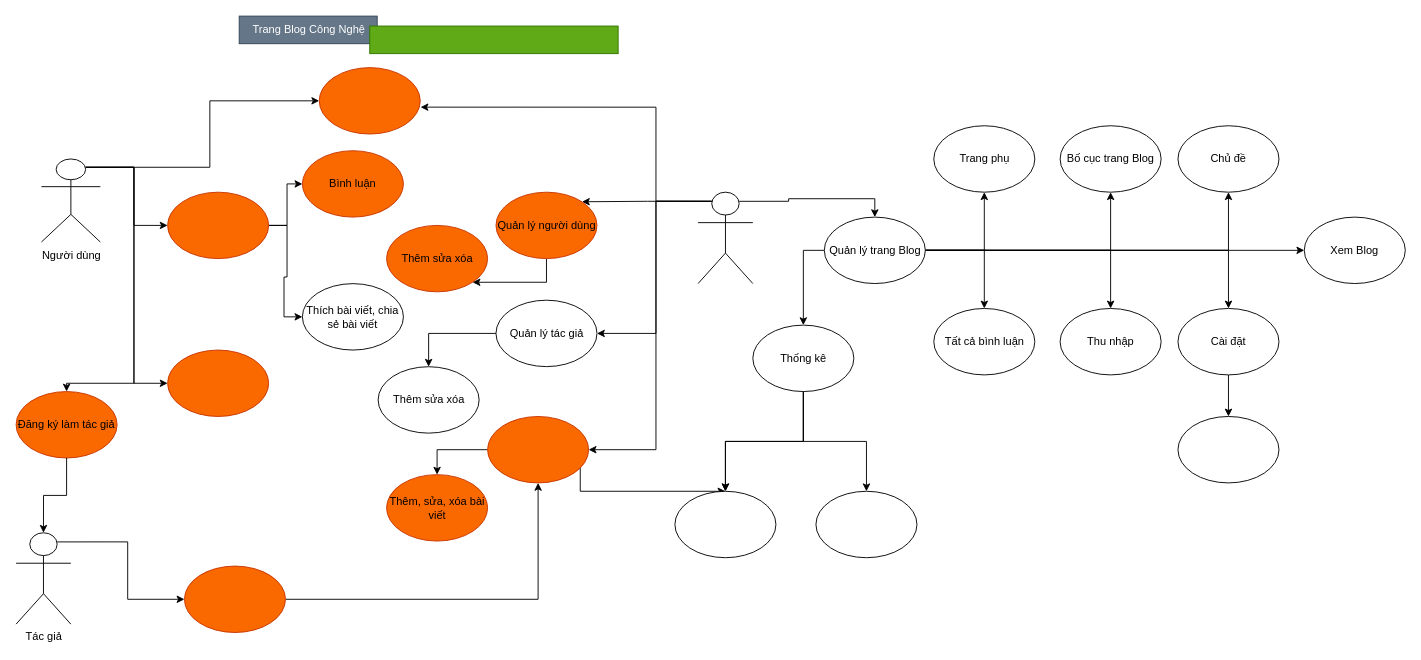
The diagram is 1421 pixels wide and 660 high, and some of its shapes have lost their labels. The shapes that lost their labels are listed below. From the top down, each one's centre as x and y in pixels, then its label:
(493,39): Màu cam là nhưng chức năng dự kiến sẽ làm
(369,100): Đăng nhập/ Đăng Ký
(218,225): Xem bài viết
(725,237): Admin
(218,382): Tìm kiếm bài viết
(538,449): Quản lý bài viết
(1228,449): Tiêu đề, mô tả, ngôn ngữ
(725,524): Tổng lượt xem, theo tháng, năm, tất cả
(866,524): Bài đăng mới nhất, các trang phụ
(234,598): Đăng bài viết
